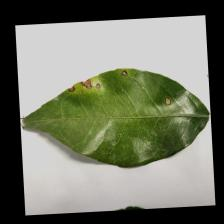canker: (54, 63, 178, 128)
